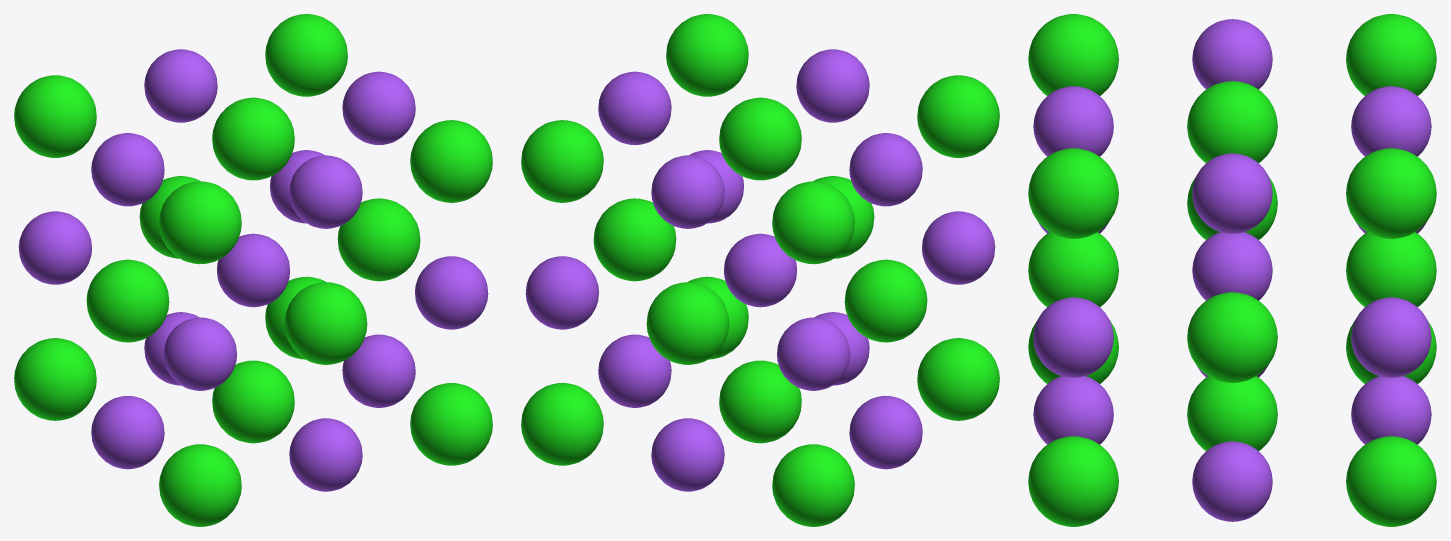
The model's file is nacl.glb.
3 views of the same model, side by side, from view 1: azimuth 30°, elevation 25°; view 2: azimuth 150°, elevation 25°; view 3: azimuth 270°, elevation 25° (orthographic). The views are drawn at different scales.
Visible parts, largest first — view 1: Cl (×14), Na (×13); view 2: Cl (×14), Na (×13); view 3: Cl (×14), Na (×10).
Boxes of the visible parts, <box> form: Cl (×14): <box>14,14,492,526</box>; Na (×13): <box>18,49,488,491</box>; Cl (×14): <box>521,14,999,526</box>; Na (×13): <box>525,49,995,491</box>; Cl (×14): <box>1028,14,1436,526</box>; Na (×10): <box>1033,19,1431,521</box>.
Size of the model in its own units: 0.22 by 0.22 by 0.22.
